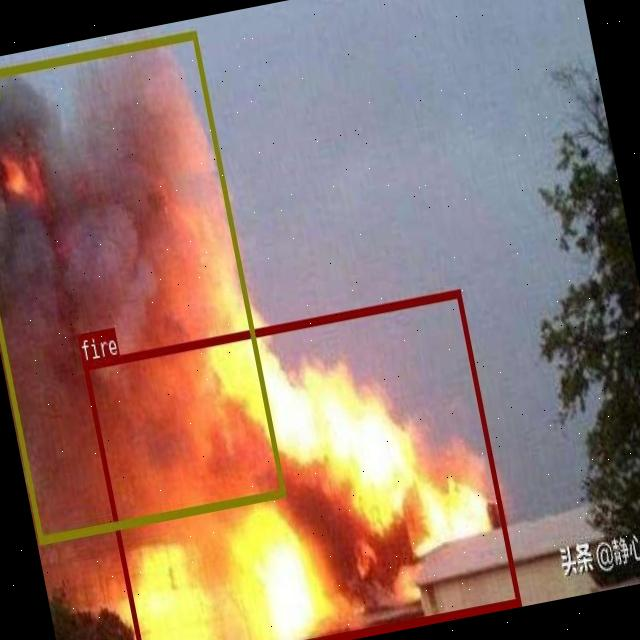fire: (81, 288, 519, 640)
smoke: (0, 29, 286, 543)
